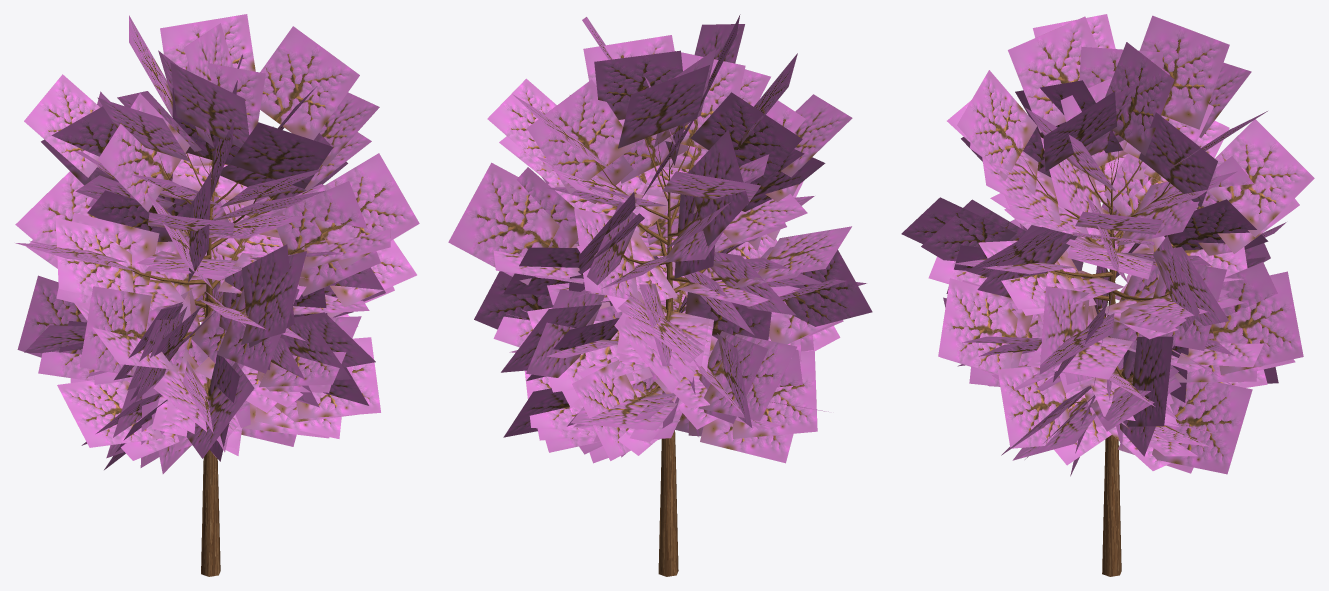
The model's file is Nature_tree01d.fbx.
3 views of the same model, side by side, from view 1: azimuth 30°, elevation 25°; view 2: azimuth 150°, elevation 25°; view 3: azimuth 270°, elevation 25° (orthographic). The views are drawn at different scales.
Visible parts, largest first — view 1: leaves, tree; view 2: leaves, tree; view 3: leaves, tree.
Boxes of the visible parts, <box> form: leaves: <box>15,14,419,473</box>; tree: <box>114,126,319,576</box>; leaves: <box>448,14,872,463</box>; tree: <box>597,118,722,576</box>; leaves: <box>901,14,1314,476</box>; tree: <box>1024,142,1209,576</box>.
Bounding box in the file's own units: 2.92 × 4.3 × 3.04.
